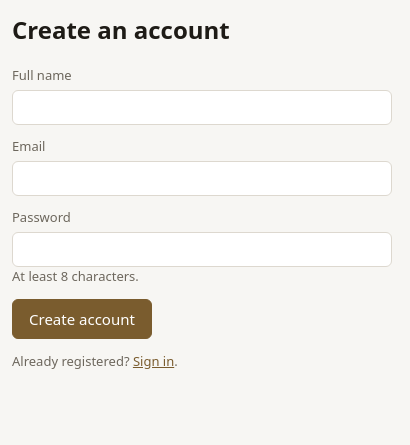
Scenario: Register › reports why the registration was refused
In the field labelled "Email": (202, 178) [12,160,392,196], type "taken@example.com"
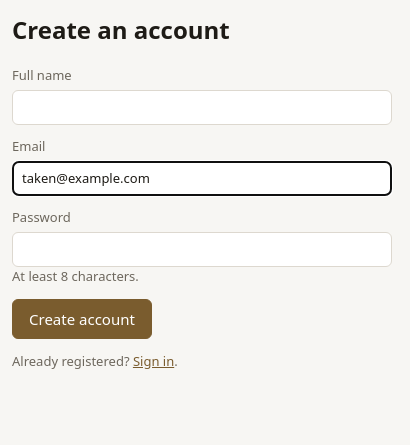
In the password field labelled "Password At least 8 characters.": (202, 249) [12,232,392,267], type "whatever"
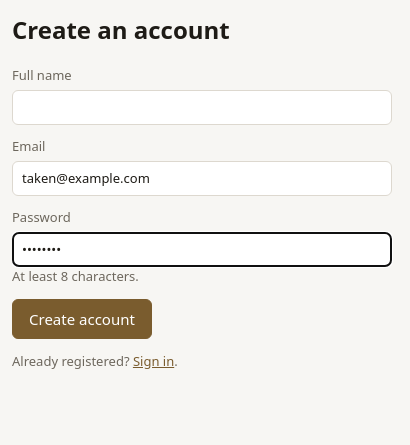
Click the button "Create account": (82, 319) [12,298,152,339]
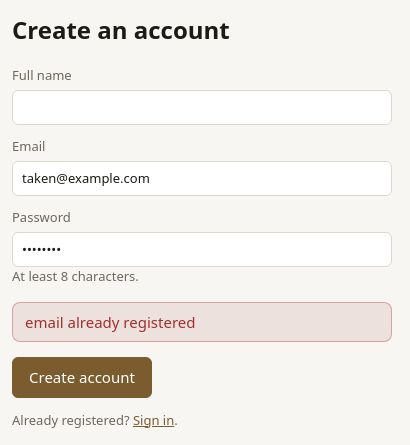
expect the text "email already registered" is shown: met, box [12,302,392,342]
